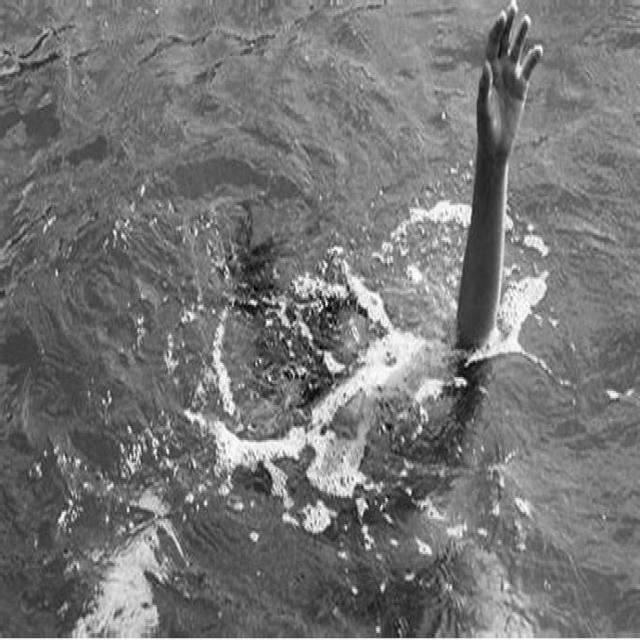drowning: (133, 0, 558, 636)
